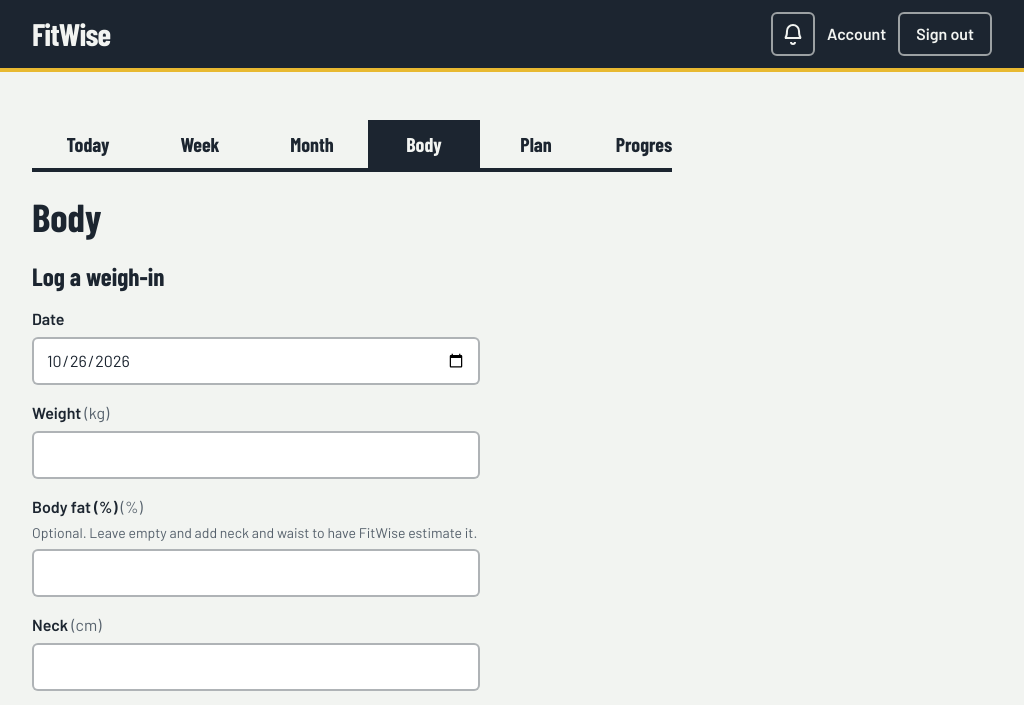
Test: Body page: weigh-in form › shows API 422 errors next to their fields
Expected: the heading "Log a weigh-in" is shown, [32,261,164,291]
In the field labelled "Weight (kg)": (256, 455) [32,431,480,479], type "999"
(page scrolled)
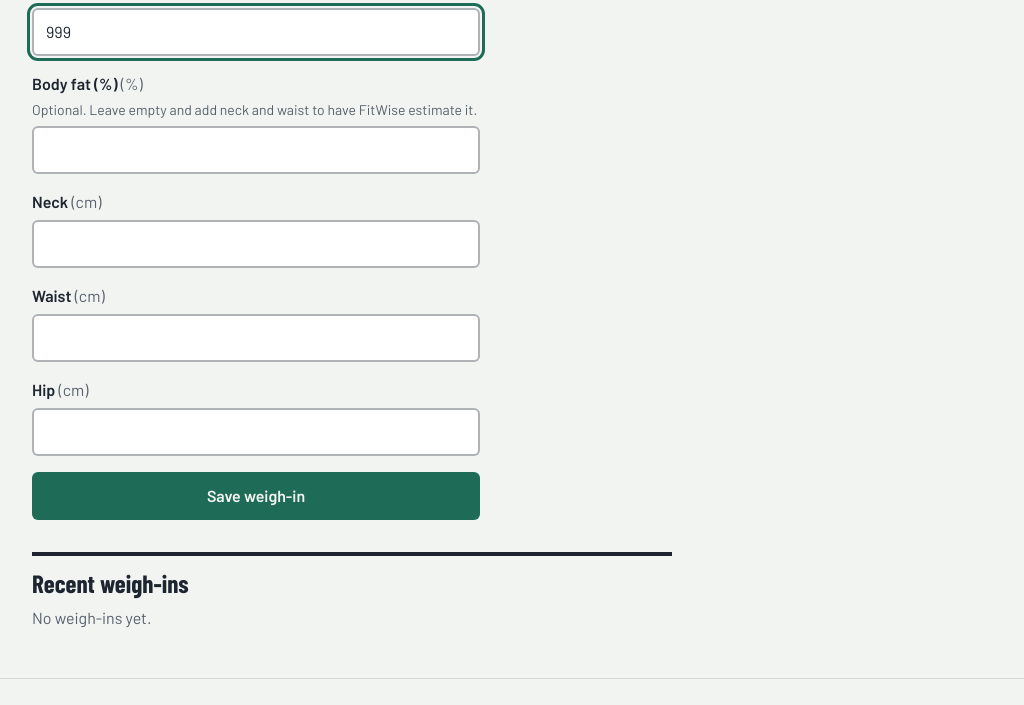
Click the button "Save weigh-in": (256, 496) [32,472,480,520]
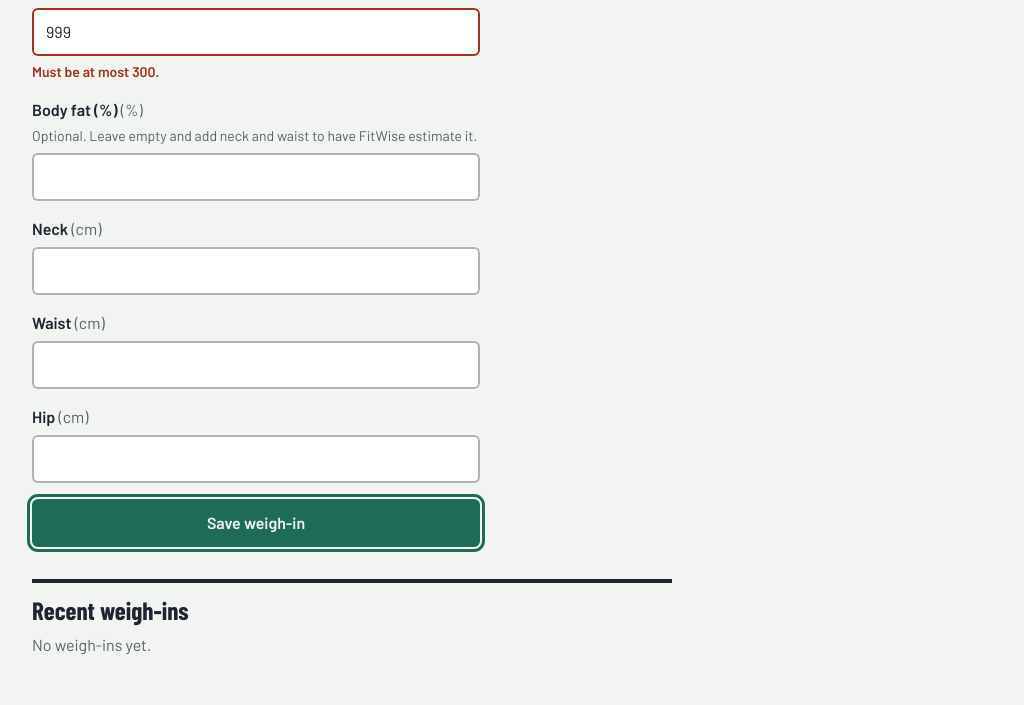
Expected: the text "Must be at most 300." is shown, [32,63,159,80]
